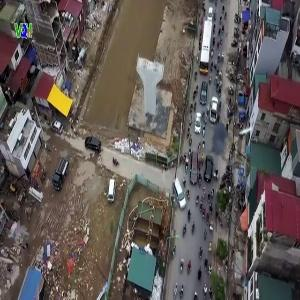drone: (184, 88, 286, 190)
